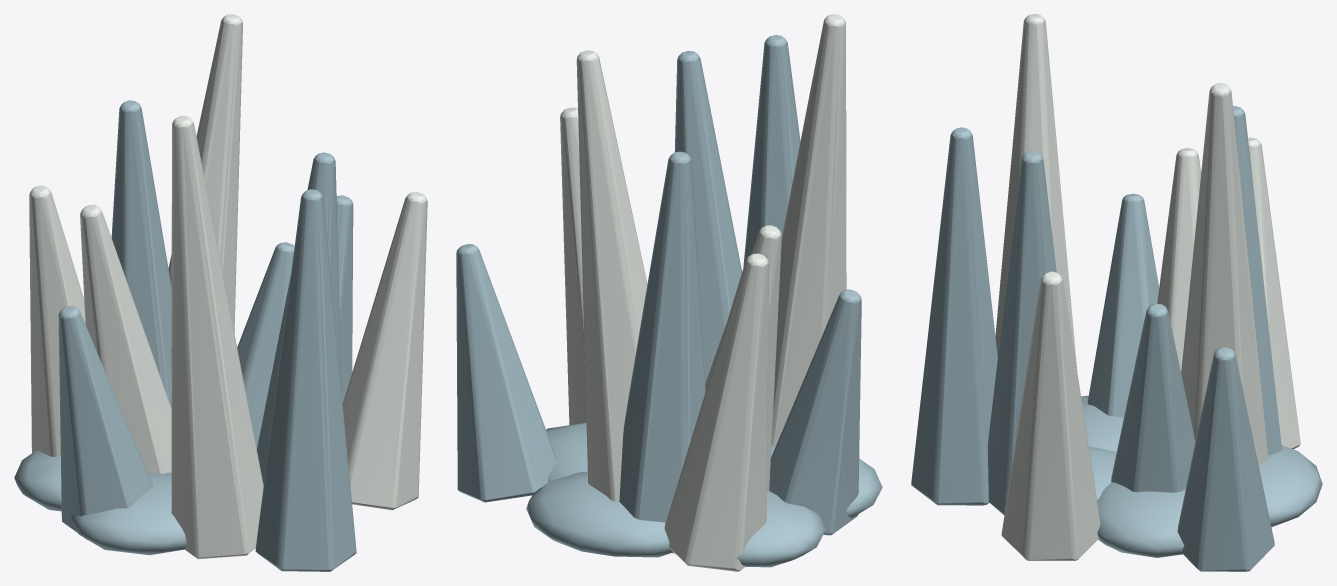
Rendered from bio_crystal_fan_11_far.glb.
3 views of the same model, side by side, from view 1: azimuth 30°, elevation 25°; view 2: azimuth 150°, elevation 25°; view 3: azimuth 270°, elevation 25° (orthographic). The views are drawn at different scales.
Visible parts, largest first — view 1: Reflecting mineral prism.007, Reflecting mineral prism.002, Reflecting mineral prism.005, Reflecting mineral prism.004, Reflecting mineral prism.009, Reflecting mineral prism.006, Reflecting mineral prism.001, Reflecting mineral prism.003, Mineral substrate, Reflecting mineral prism, Reflecting mineral prism.010, Reflecting mineral prism.008; view 2: Reflecting mineral prism.001, Reflecting mineral prism.006, Reflecting mineral prism.003, Reflecting mineral prism.007, Reflecting mineral prism.008, Mineral substrate, Reflecting mineral prism.004, Reflecting mineral prism.010, Reflecting mineral prism.002, Reflecting mineral prism.005, Reflecting mineral prism.009; view 3: Reflecting mineral prism.002, Reflecting mineral prism.005, Reflecting mineral prism.003, Reflecting mineral prism.008, Mineral substrate, Reflecting mineral prism.010, Reflecting mineral prism, Reflecting mineral prism.004, Reflecting mineral prism.007, Reflecting mineral prism.009, Reflecting mineral prism.001, Reflecting mineral prism.006.
Boxes of the visible parts, x1,y1,x2,y2 form: Reflecting mineral prism.007: (171, 115, 263, 559); Reflecting mineral prism.002: (255, 189, 356, 571); Reflecting mineral prism.005: (342, 192, 427, 510); Reflecting mineral prism.004: (58, 306, 152, 539); Reflecting mineral prism.009: (80, 205, 171, 473); Reflecting mineral prism.006: (111, 100, 171, 407); Reflecting mineral prism.001: (29, 185, 85, 456); Reflecting mineral prism.003: (168, 14, 242, 391); Mineral substrate: (14, 450, 186, 555); Reflecting mineral prism: (237, 242, 294, 449); Reflecting mineral prism.010: (257, 152, 341, 484); Reflecting mineral prism.008: (336, 195, 353, 403); Reflecting mineral prism.001: (664, 253, 769, 571); Reflecting mineral prism.006: (619, 151, 705, 522); Reflecting mineral prism.003: (576, 50, 647, 501); Reflecting mineral prism.007: (771, 14, 846, 445); Reflecting mineral prism.008: (456, 244, 556, 502); Mineral substrate: (526, 422, 882, 567); Reflecting mineral prism.004: (769, 289, 861, 535); Reflecting mineral prism.010: (674, 50, 741, 383); Reflecting mineral prism.002: (743, 35, 800, 267); Reflecting mineral prism.005: (560, 107, 586, 425); Reflecting mineral prism.009: (705, 225, 781, 491); Reflecting mineral prism.002: (911, 127, 997, 505); Reflecting mineral prism.005: (1001, 271, 1100, 560); Reflecting mineral prism.003: (1181, 83, 1268, 465); Reflecting mineral prism.008: (1177, 347, 1274, 571); Mineral substrate: (1081, 395, 1322, 557); Reflecting mineral prism.010: (987, 151, 1056, 514); Reflecting mineral prism: (1111, 303, 1195, 492); Reflecting mineral prism.004: (1087, 193, 1158, 417); Reflecting mineral prism.007: (995, 14, 1077, 370); Reflecting mineral prism.009: (1157, 148, 1201, 372); Reflecting mineral prism.001: (1248, 137, 1300, 449); Reflecting mineral prism.006: (1233, 106, 1281, 455).
Bounding box in the file's own units: 1.46 × 1.85 × 1.55.
